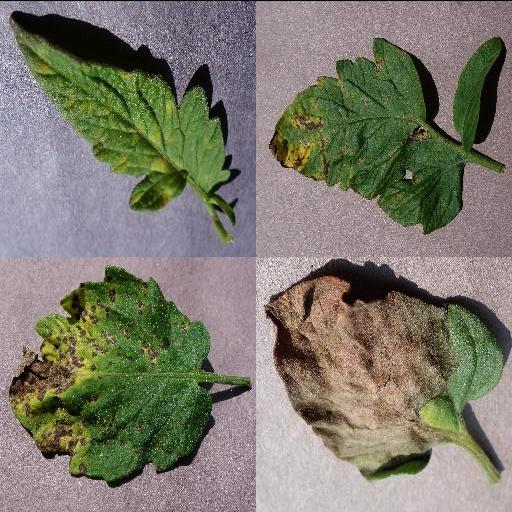Late Blight: (264, 274, 502, 482)
Leaf Mold: (9, 17, 233, 211)
Septoria: (9, 265, 215, 483), (270, 32, 464, 230)
